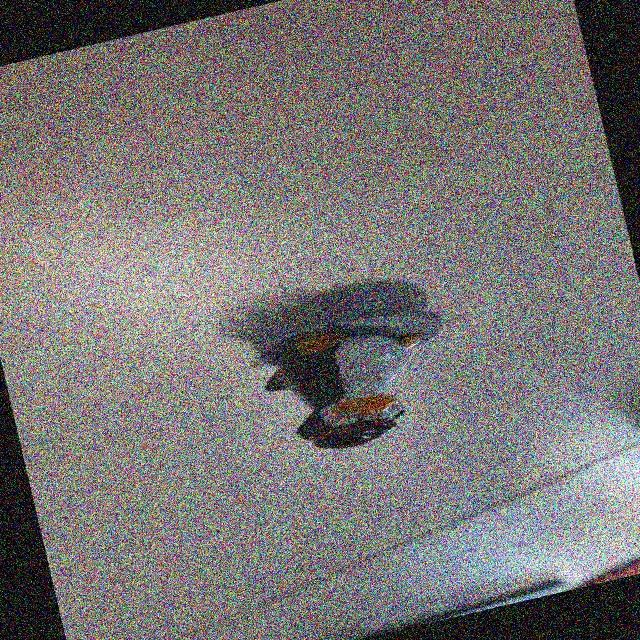Penguin: (228, 279, 473, 479)
